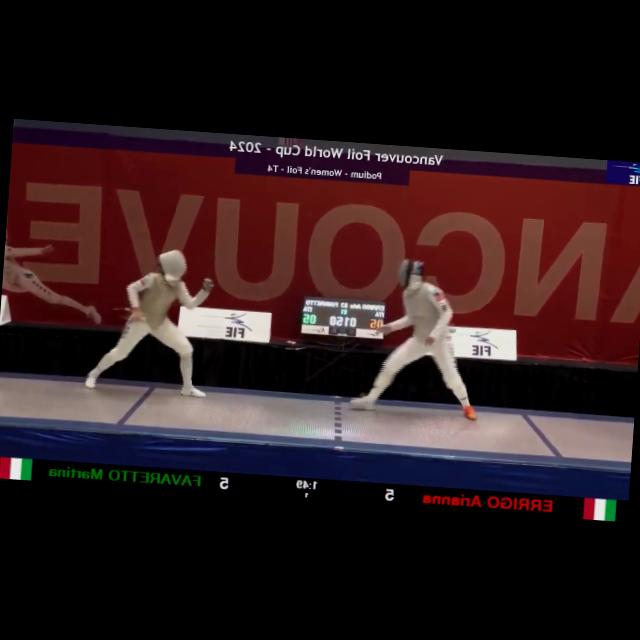blade: (304, 318, 386, 388)
